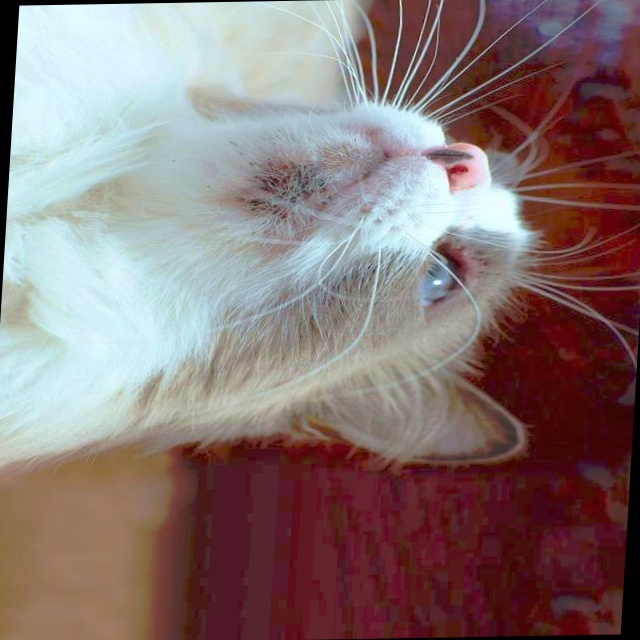acne: (234, 156, 332, 230)
